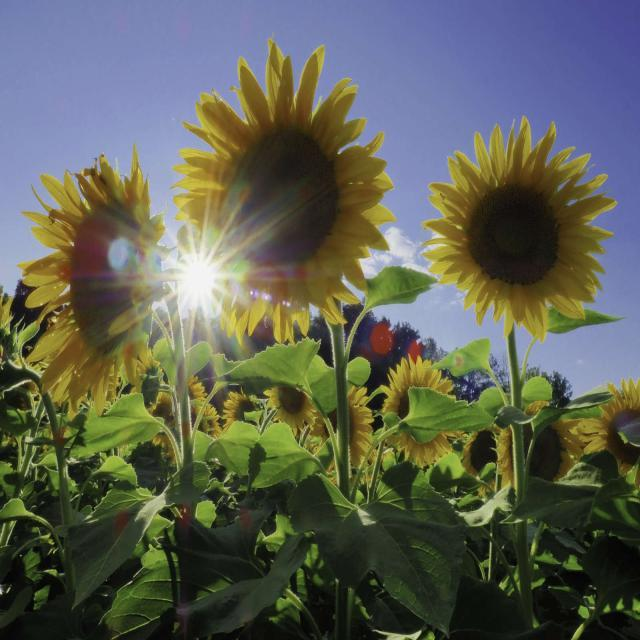sunflower: (169, 35, 396, 346), (420, 115, 617, 342), (16, 142, 176, 420), (380, 352, 463, 468), (492, 400, 586, 494), (578, 375, 640, 485), (306, 384, 374, 476), (460, 427, 507, 498), (263, 382, 317, 436), (130, 347, 164, 412), (5, 360, 42, 416), (147, 389, 180, 446), (222, 388, 260, 430), (0, 291, 19, 357), (198, 404, 222, 442), (187, 378, 210, 407), (188, 406, 200, 428)
